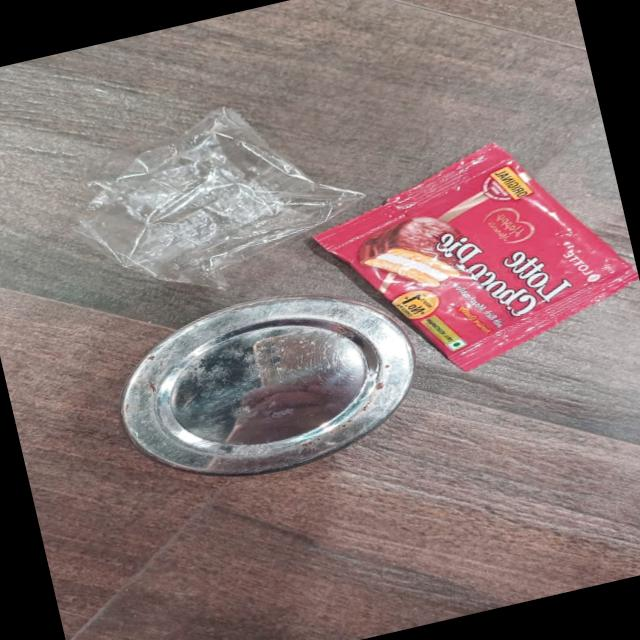Plastic-NonBio: (295, 148, 639, 376), (51, 78, 377, 317), (304, 142, 637, 369)
Steel-NonBio: (87, 269, 432, 508)
